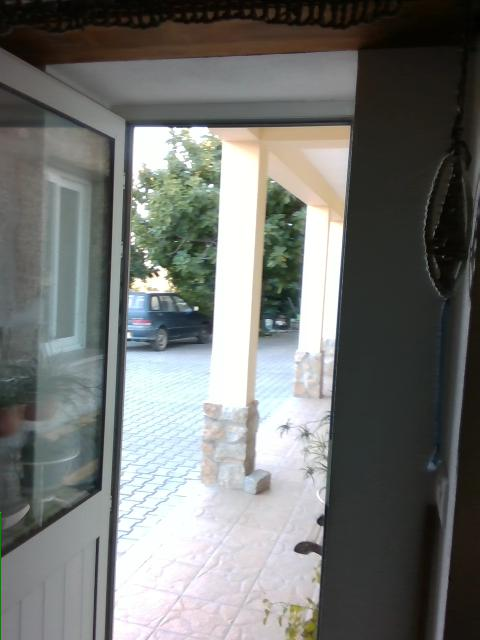door: (1, 52, 127, 639)
